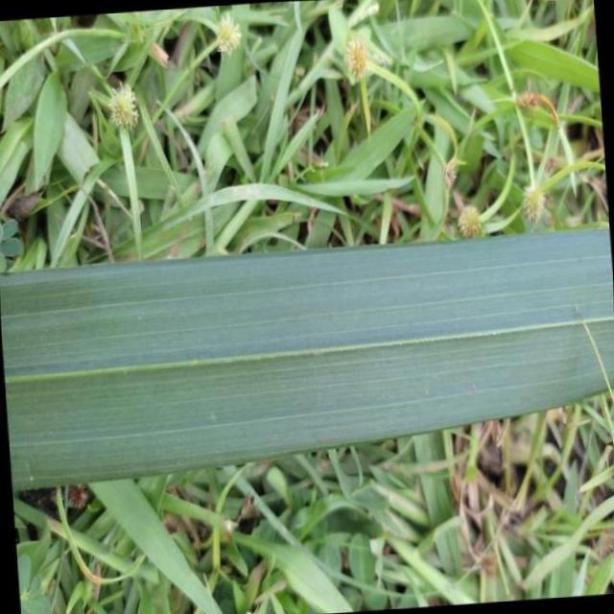Healthy: (5, 226, 614, 494)
